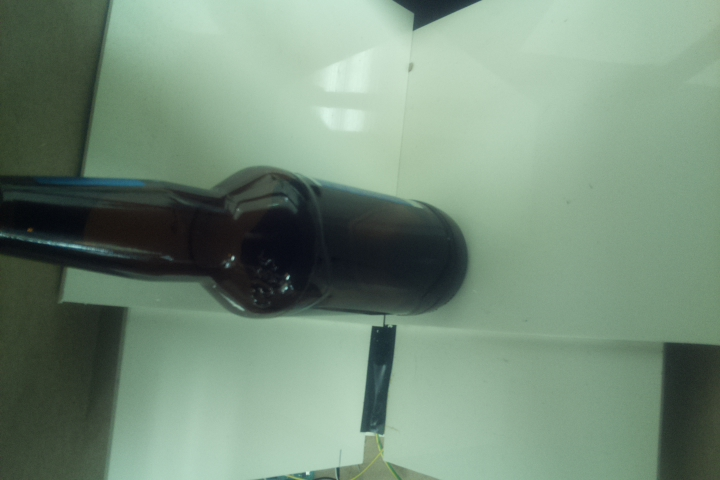makju: (1, 163, 469, 324)
